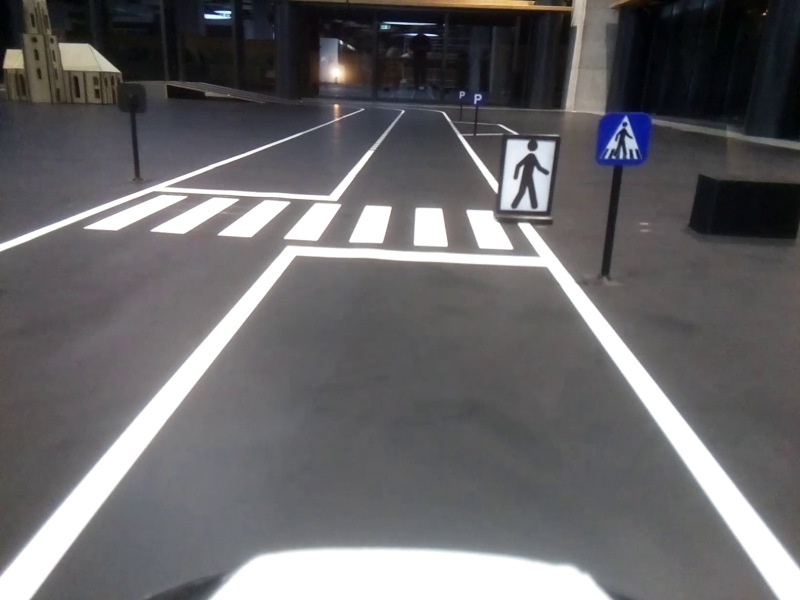pedestrian: (598, 110, 652, 166)
